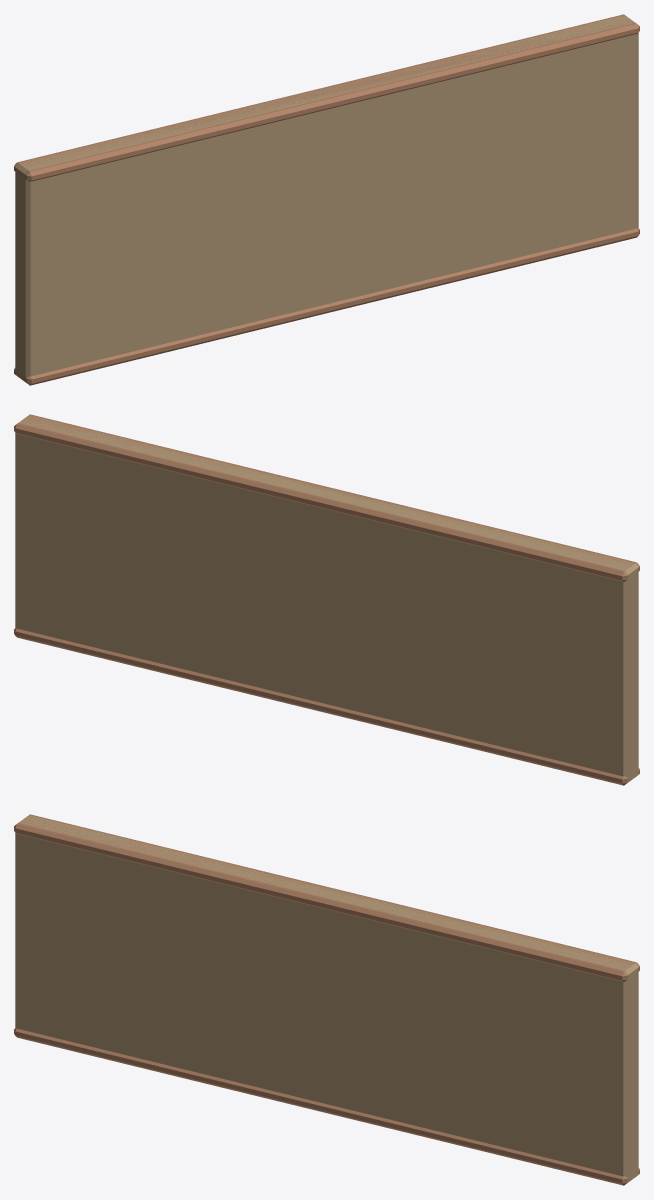
File: pediment_wide.glb
3 renders of one model, top to bottom at view 1: azimuth 30°, elevation 25°; view 2: azimuth 150°, elevation 25°; view 3: azimuth 330°, elevation 25°, orthographic.
Parts seen in each view (by area): view 1: pediment_wide; view 2: pediment_wide; view 3: pediment_wide.
Part boxes in pixels (bbox=[...]): pediment_wide: bbox=[14, 14, 639, 385]; pediment_wide: bbox=[14, 414, 639, 785]; pediment_wide: bbox=[14, 814, 639, 1185].
Size of the model in its own units: 3 by 1 by 0.14.
